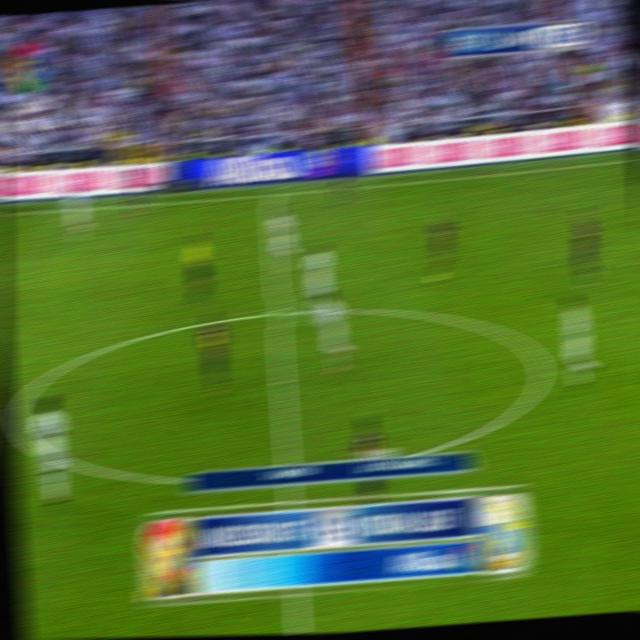bigarea_bottom_inner: (138, 589, 160, 617)
halfcircle_top: (266, 298, 290, 328)
midline_bottom_intersection: (276, 445, 299, 467)
midline_top_intersection: (260, 186, 280, 202)
